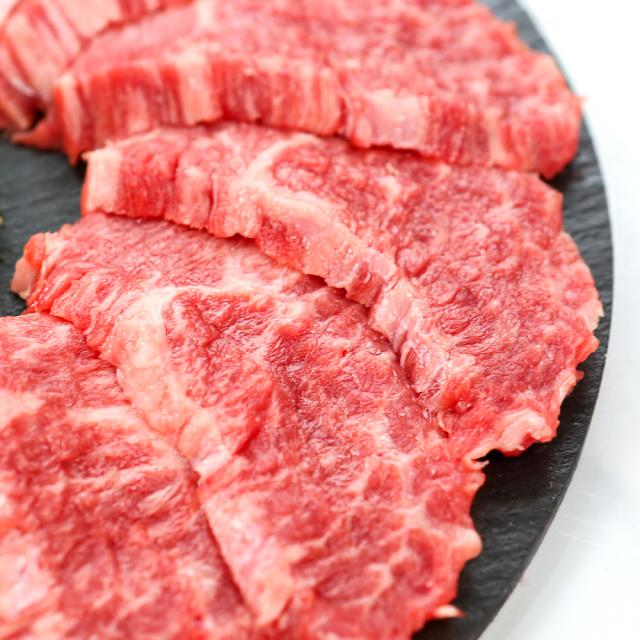beef: (150, 138, 451, 462)
